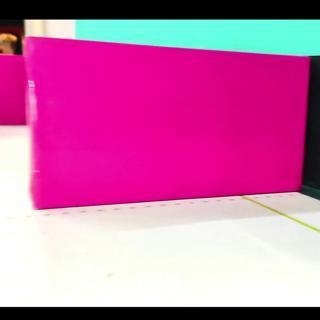xparking: (29, 36, 310, 209), (1, 56, 28, 126)
